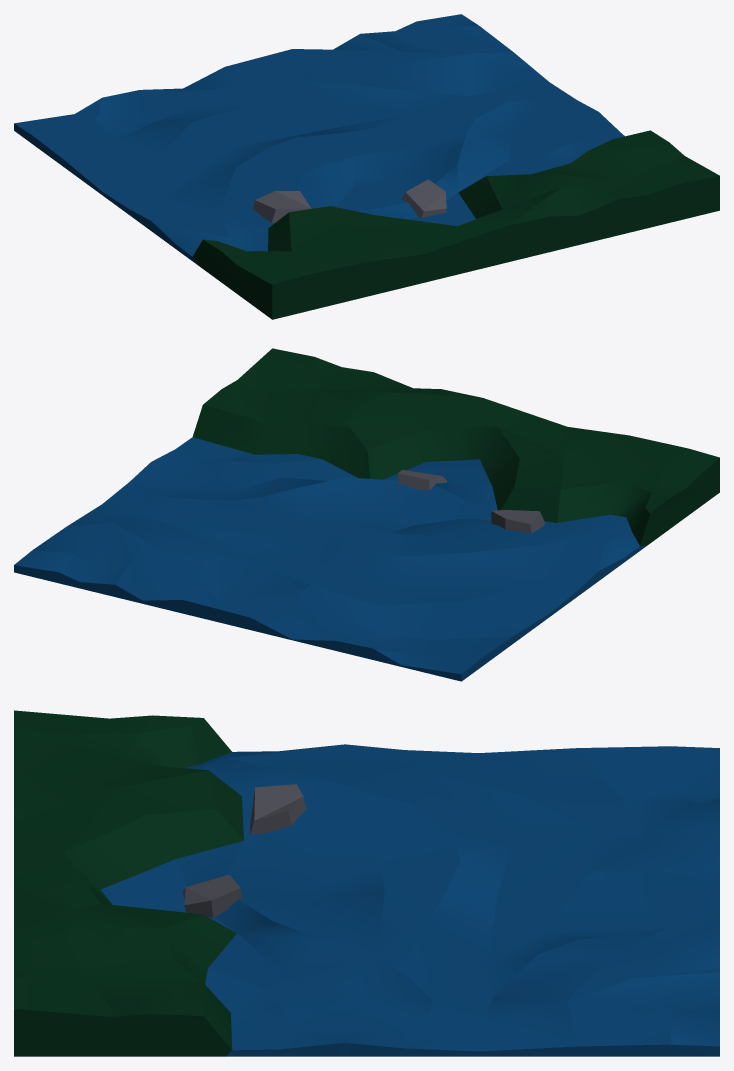
File: Water_Edge_B.fbx
The picture shows the model from 3 angles, top to bottom: view 1: azimuth 30°, elevation 25°; view 2: azimuth 150°, elevation 25°; view 3: azimuth 270°, elevation 25°; orthographic projection. The views are drawn at different scales.
Visible parts, largest first — view 1: Water_Edge_B; view 2: Water_Edge_B; view 3: Water_Edge_B.
Boxes of the visible parts, box(x1,y1,x2,y2) form: Water_Edge_B: box(14, 14, 719, 319); Water_Edge_B: box(14, 348, 719, 681); Water_Edge_B: box(14, 710, 719, 1056).
Size of the model in its own units: 147 by 12.67 by 147.
